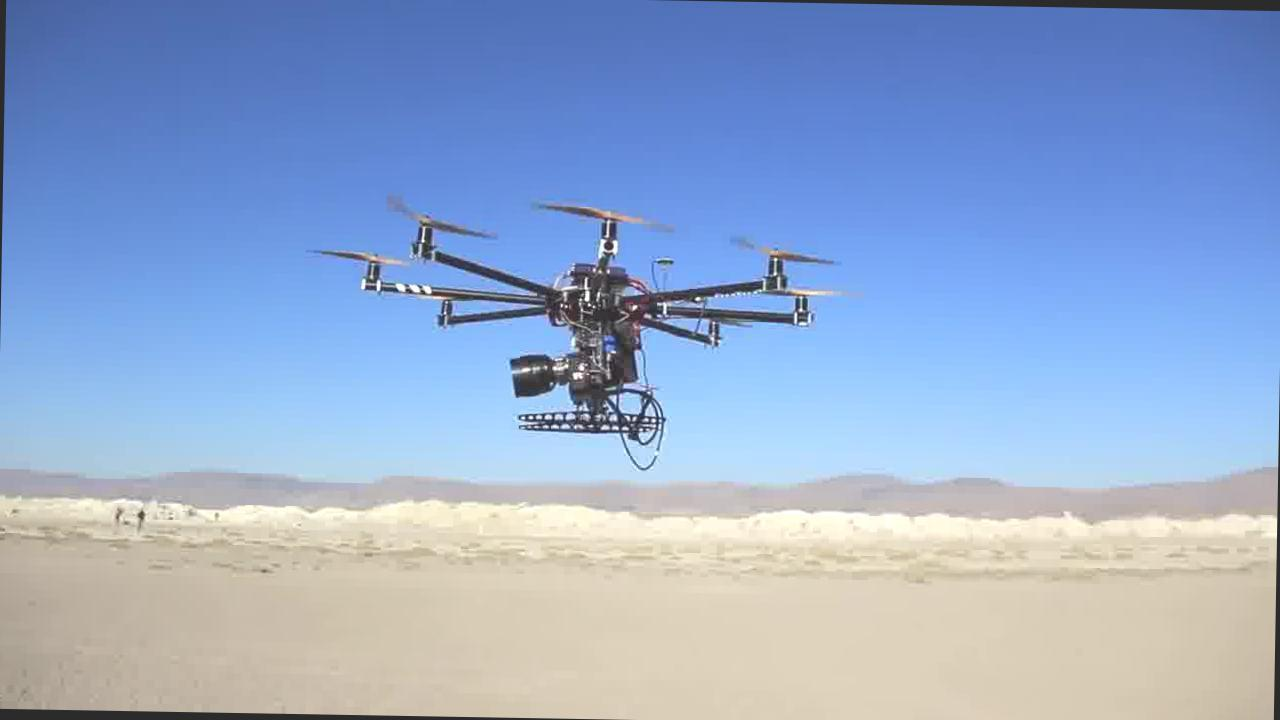drone: (344, 191, 838, 443)
